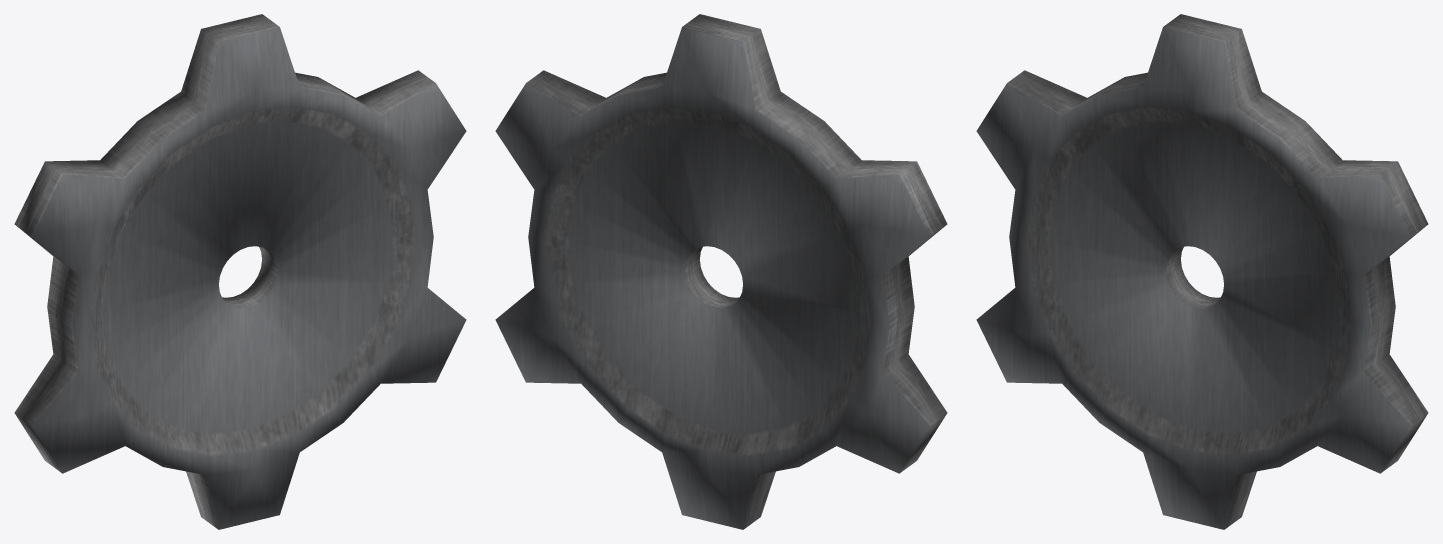
3 views of the same model, side by side, from view 1: azimuth 30°, elevation 25°; view 2: azimuth 150°, elevation 25°; view 3: azimuth 330°, elevation 25° (orthographic).
Visible parts, largest first — view 1: gear_06; view 2: gear_06; view 3: gear_06.
Boxes of the visible parts, x1,y1,x2,y2 form: gear_06: (14,14,466,529); gear_06: (495,14,947,529); gear_06: (976,14,1428,529).
Bounding box in the file's own units: 1.99 × 2.13 × 0.2.
Materials: 1 (1 with a texture image).
